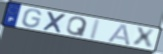A: (107, 23, 132, 47)
G: (21, 9, 43, 29)
I: (88, 18, 102, 41)
Q: (66, 16, 89, 38)
X: (41, 10, 68, 35), (132, 26, 156, 50)
